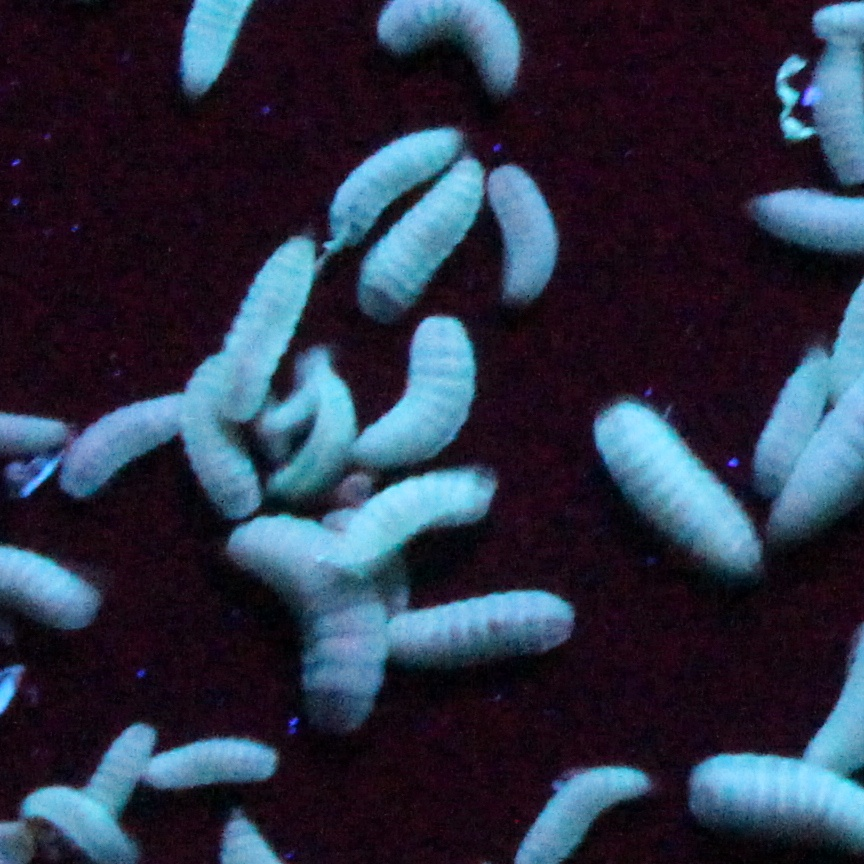larve: (224, 507, 384, 727), (604, 400, 758, 573), (335, 465, 495, 574), (353, 323, 478, 458), (371, 156, 475, 316), (224, 229, 309, 423), (329, 125, 462, 243), (389, 589, 589, 667), (58, 396, 195, 494), (184, 352, 262, 516), (491, 163, 562, 303), (149, 740, 280, 792), (98, 729, 138, 805)
